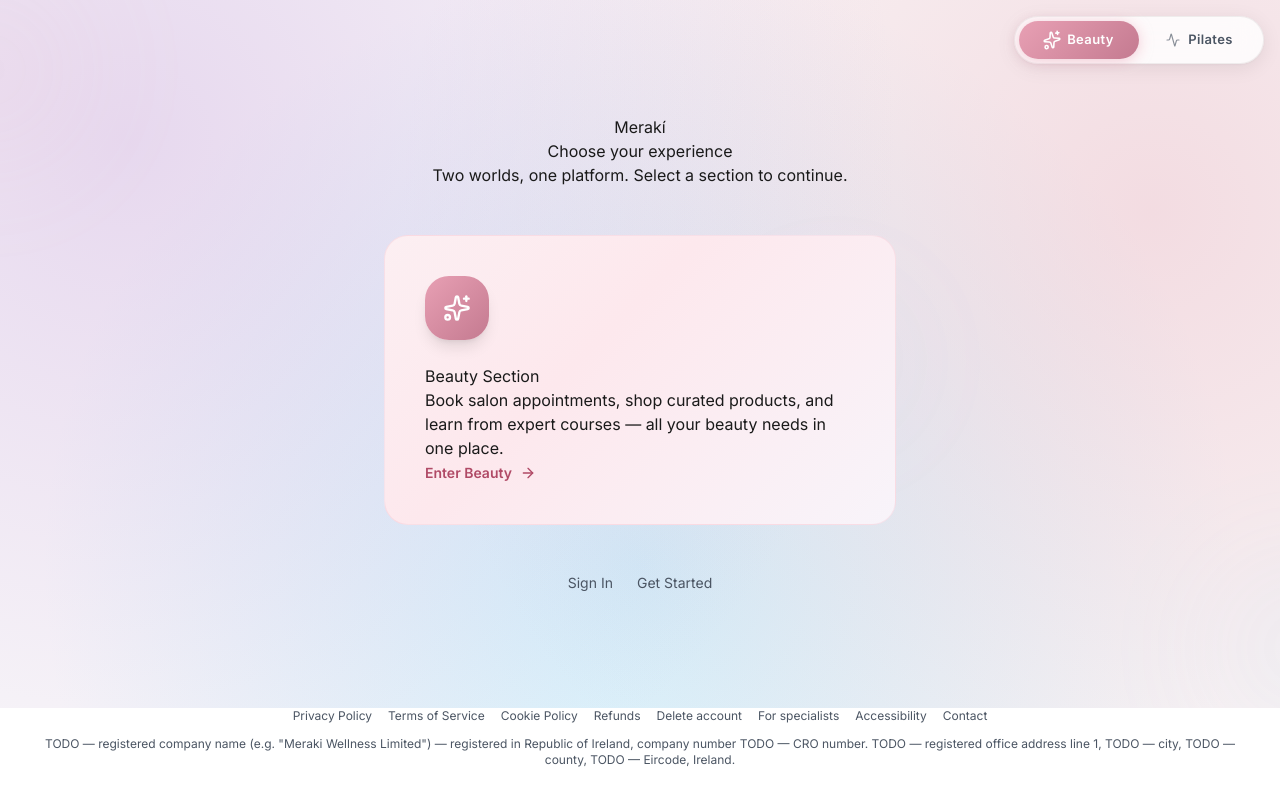
Scenario: RootPortal › switches back to Beauty when Beauty toggle clicked
Click the tab "Pilates". click: (1199, 40)
box: [1139,21,1259,58]
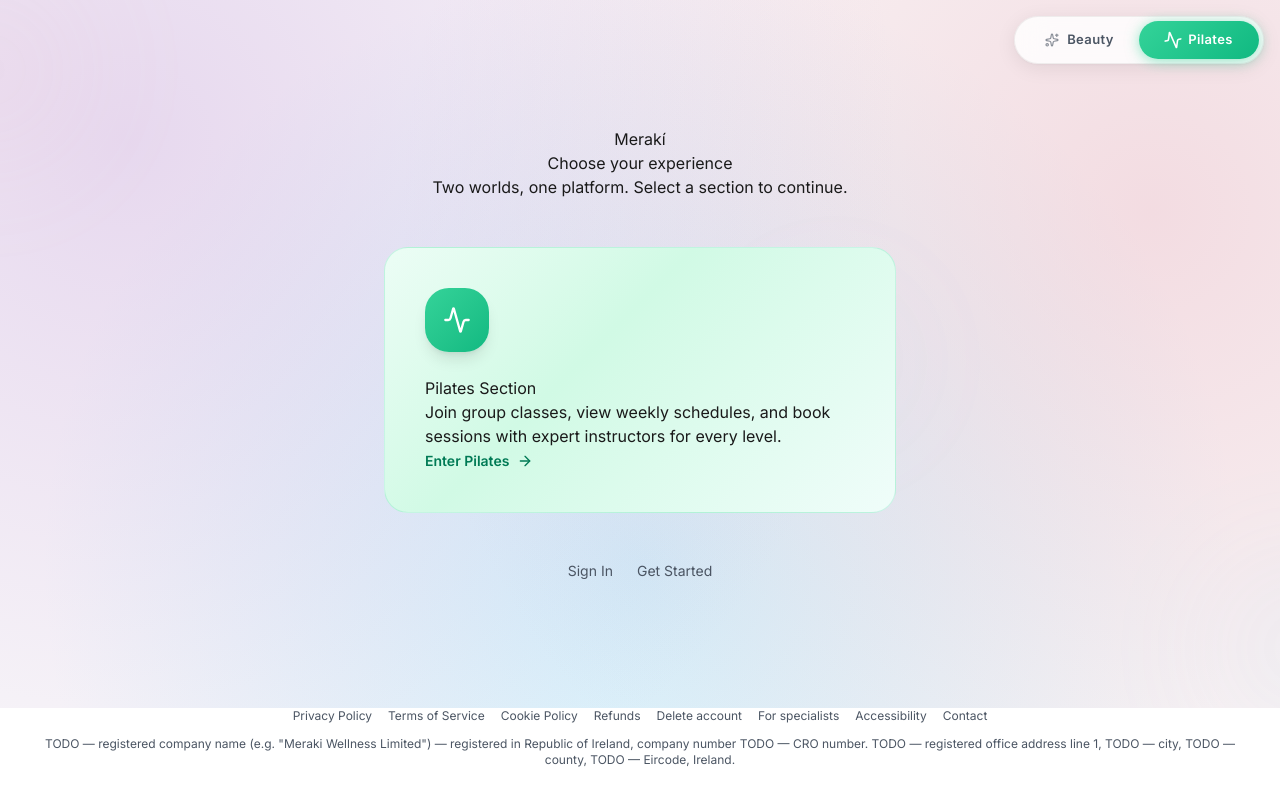
Check: the heading "Pilates Section" is shown, box [425,378,536,398]
Click the tab "Beauty". click: (1079, 40)
box: [1019,21,1139,58]
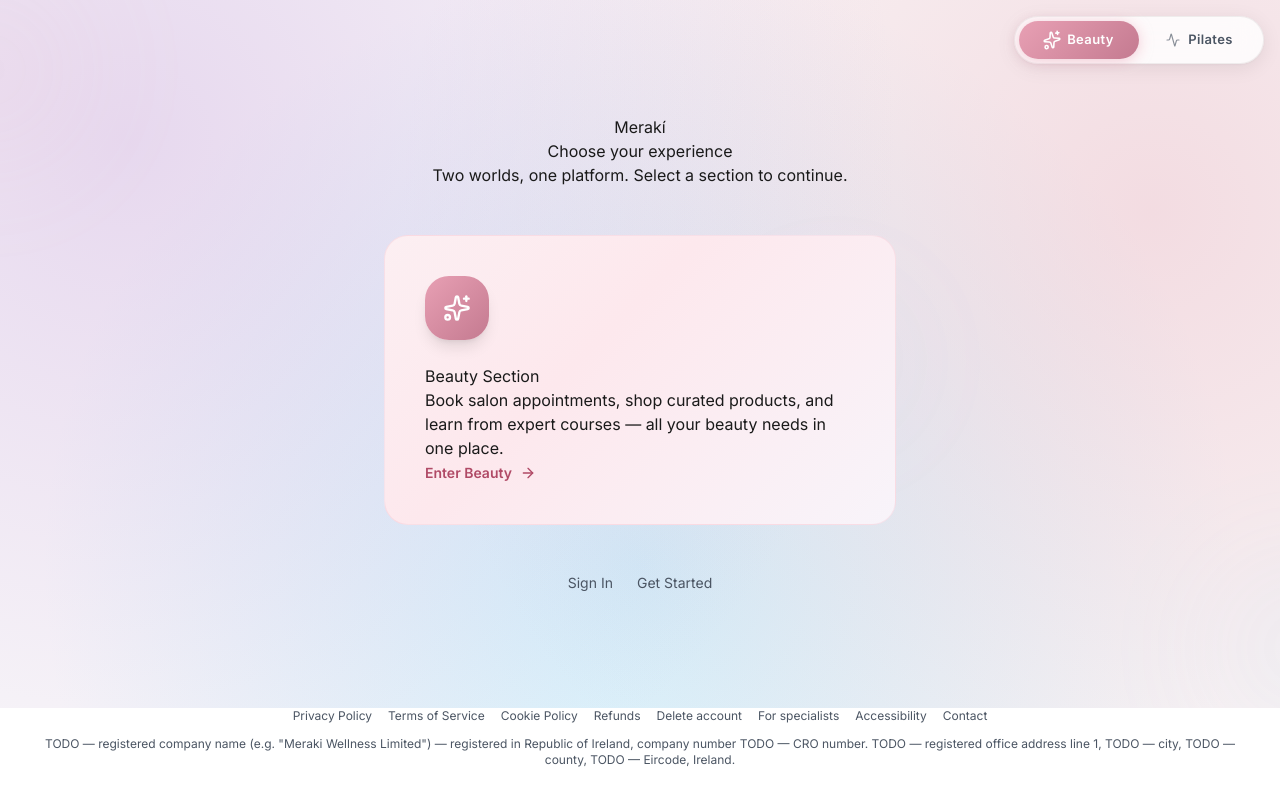
Check: the heading "Beauty Section" is shown, box [425,366,539,386]
